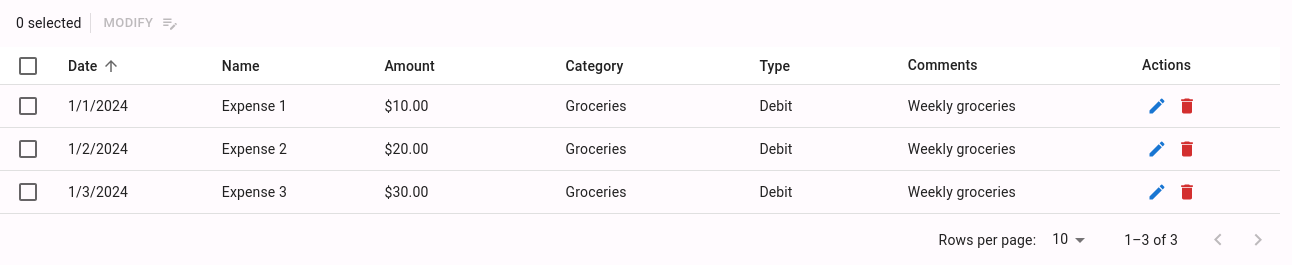
Test: ImportReviewTable › selection › should select a single row when checkbox is clicked
The image size is (1292, 265).
Click the checkbox named "Select Expense 1".
click(28, 106)  # box left=16, top=94, right=40, bottom=118
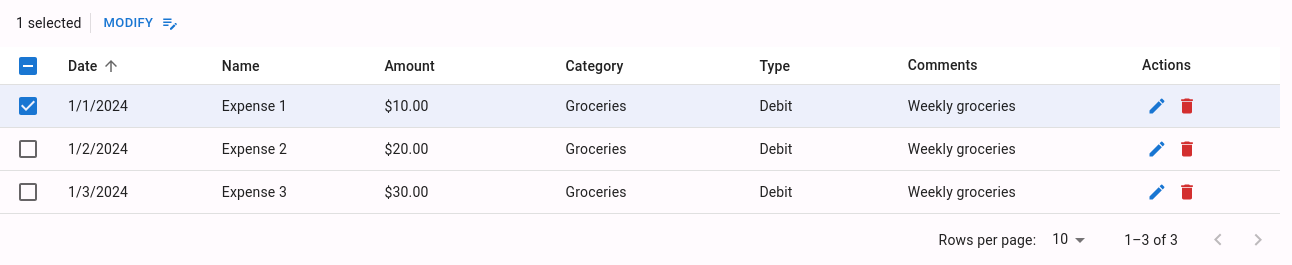
Result: the text "1 selected" is shown at left=16, top=13, right=91, bottom=33
